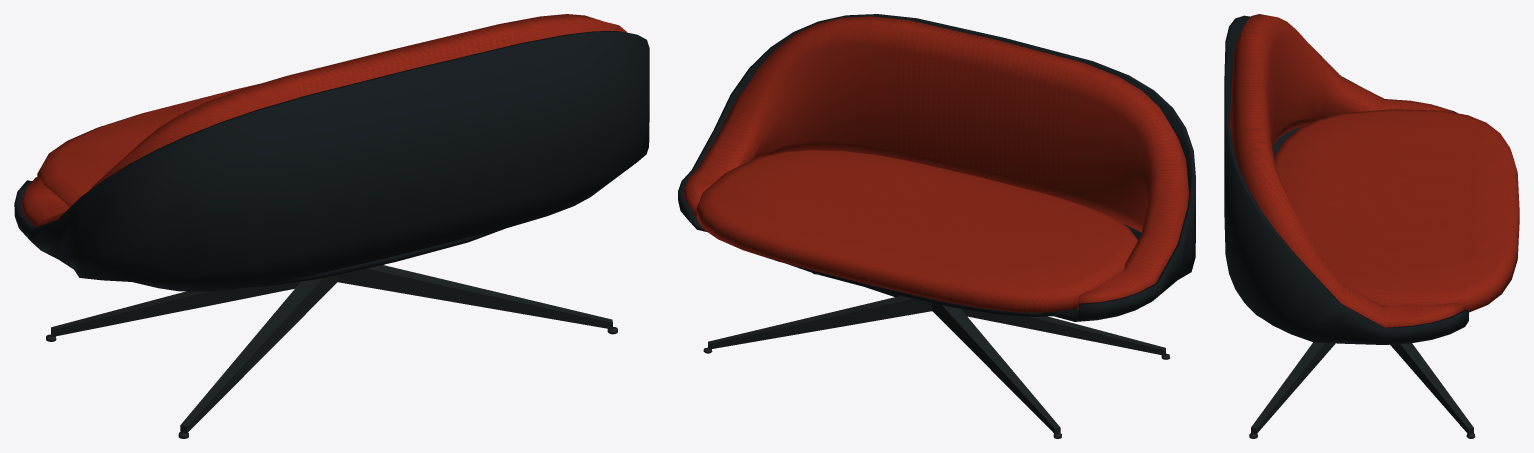
The picture shows the model from 3 angles, left to right: view 1: azimuth 30°, elevation 25°; view 2: azimuth 150°, elevation 25°; view 3: azimuth 270°, elevation 25°; orthographic projection. The views are drawn at different scales.
Visible parts, largest first — view 1: Charcoal outer backing with rolled front ends, Thick upholstered back and descending side wings, Concealed central seat support; view 2: Thick upholstered back and descending side wings, Charcoal outer backing with rolled front ends, Concealed central seat support; view 3: Thick upholstered back and descending side wings, Charcoal outer backing with rolled front ends, Concealed central seat support.
Part boxes in pixels (x1,y1,x2,y2): Charcoal outer backing with rolled front ends: (14, 31, 649, 291); Thick upholstered back and descending side wings: (21, 14, 627, 227); Concealed central seat support: (51, 264, 612, 433); Thick upholstered back and descending side wings: (683, 16, 1189, 312); Charcoal outer backing with rolled front ends: (678, 14, 1195, 321); Concealed central seat support: (708, 287, 1165, 434); Thick upholstered back and descending side wings: (1230, 14, 1519, 327); Charcoal outer backing with rolled front ends: (1224, 15, 1468, 344); Concealed central seat support: (1251, 342, 1473, 434).
Size of the model in its own units: 1.53 by 0.8428 by 0.829.
4 materials, 1 textured.
